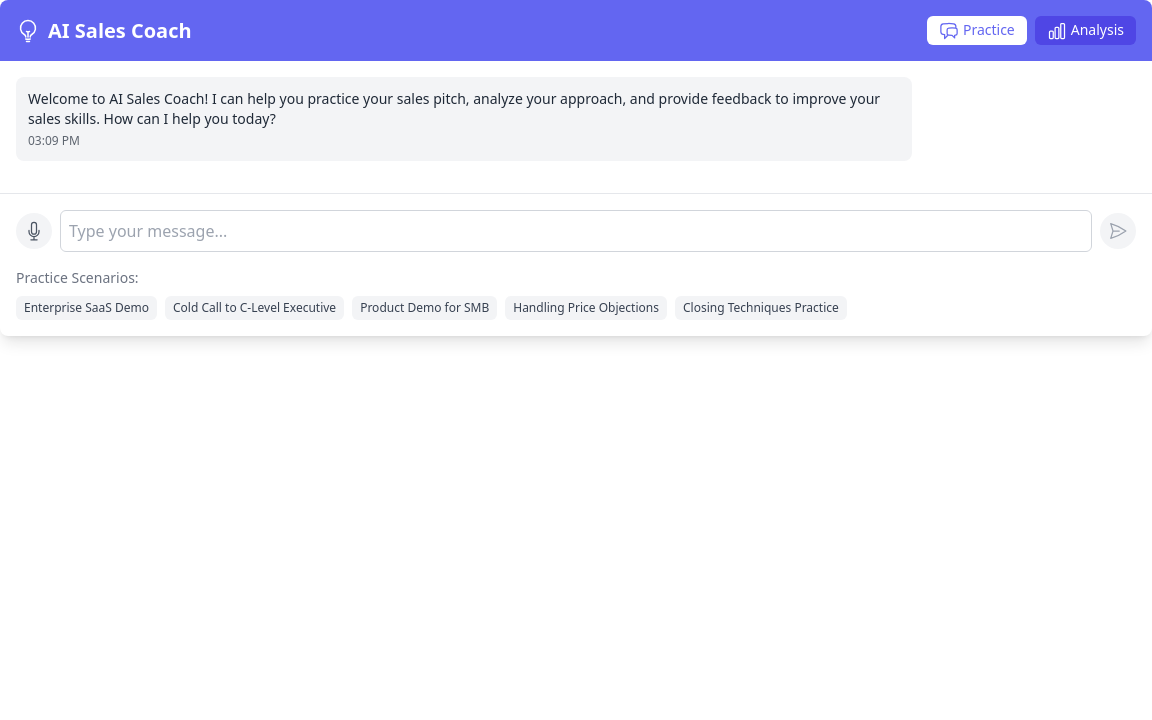
Test: AICoaching › selects a scenario when clicked
The width and height of the screenshot is (1152, 720).
Click on a scenario button
Click the button "Cold Call to C-Level Executive". click: coordinates (255, 308)
box: [165,296,344,320]
Wait 500 ms
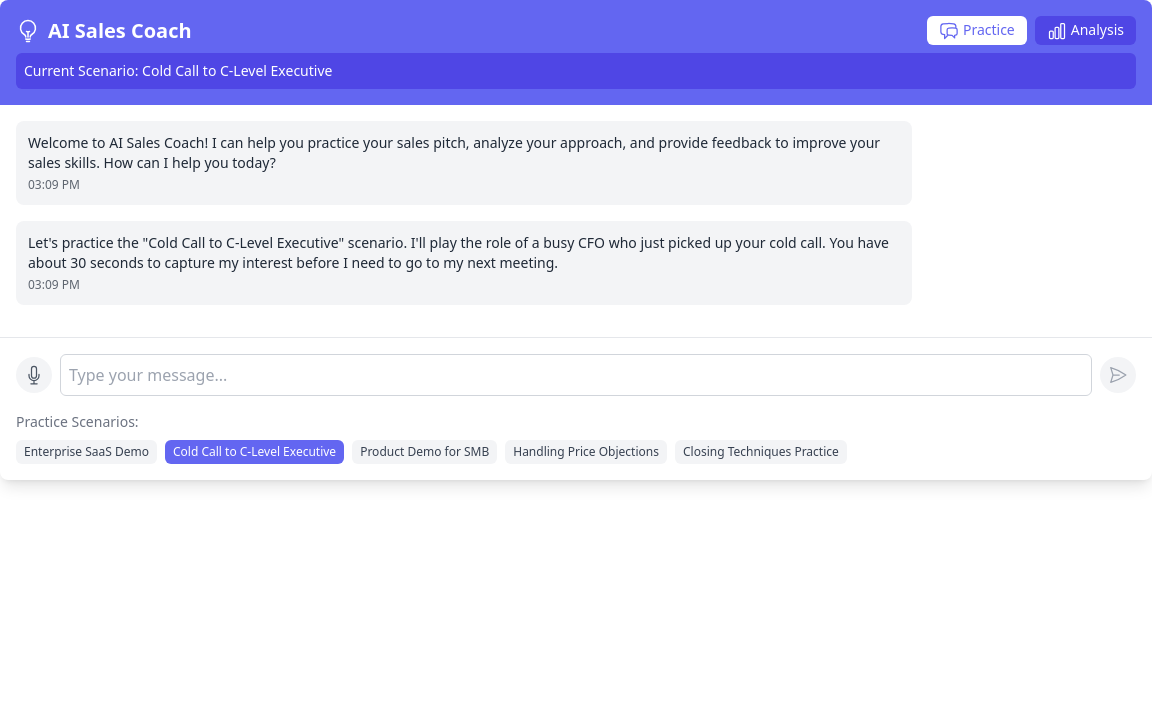
Check: the text "Let's practice the \"Cold Call to C-Level Executive\" scenario" is shown, box [28,233,889,272]
